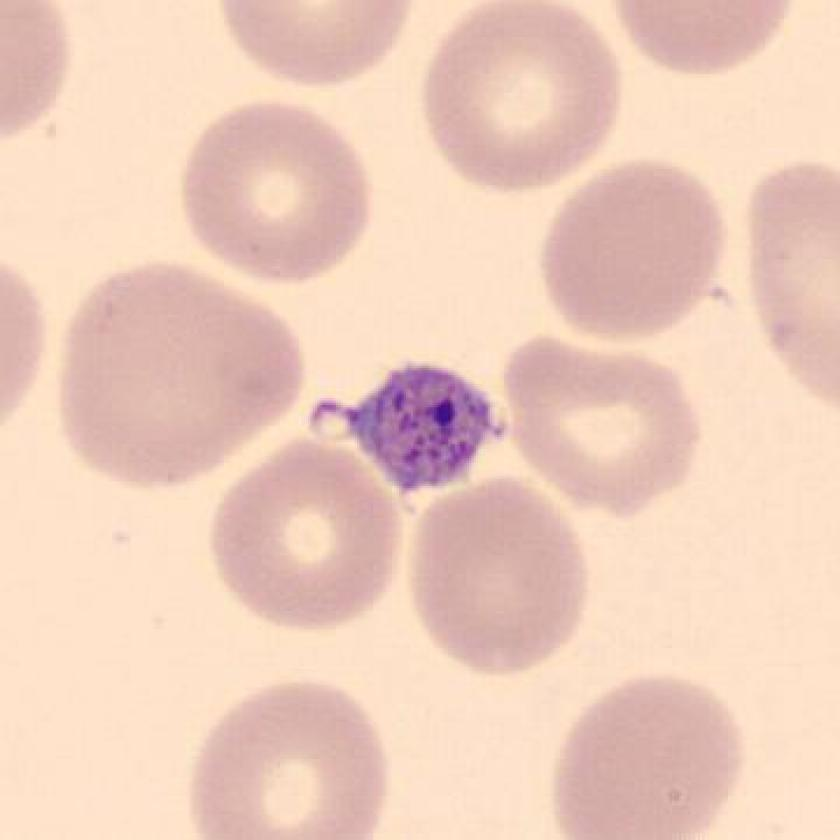platelets: (328, 360, 517, 515)
